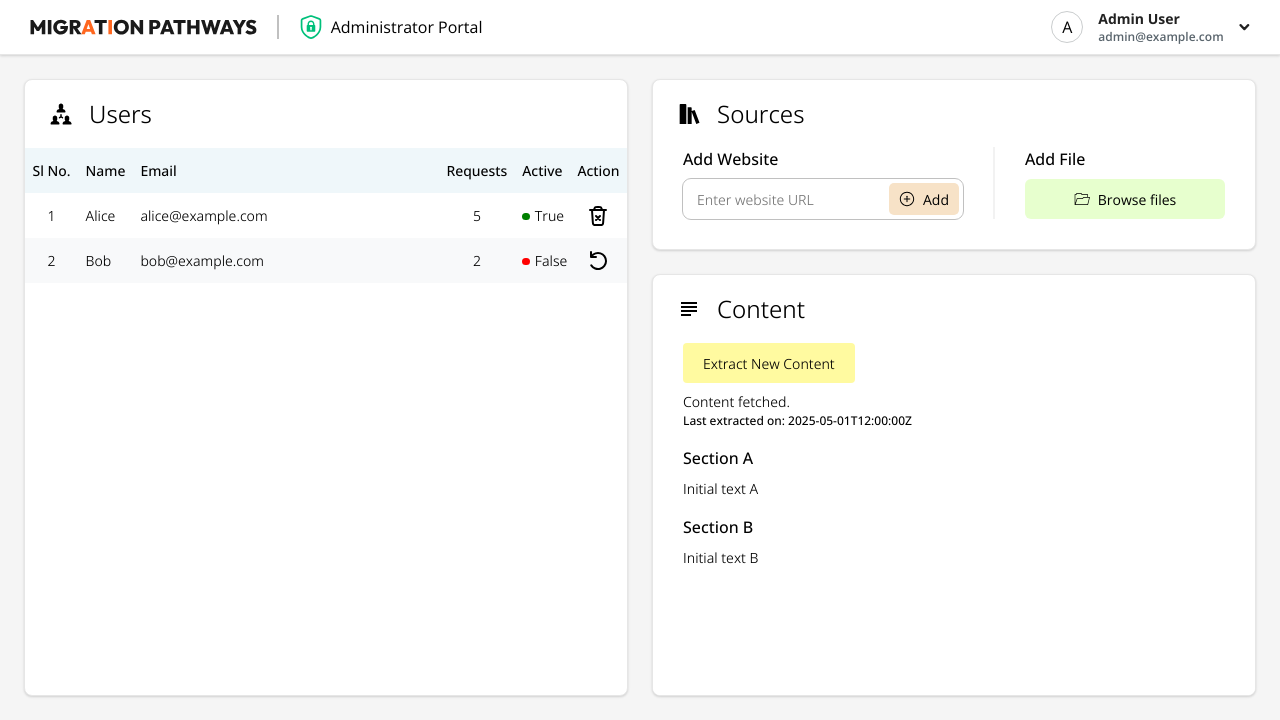
Test: AdminDashboard – Knowledge Addition › adds a website URL successfully
Expected: the heading "Add Website" is shown, [683,148,778,170]
Type "https://example.org/data" into the field with placeholder "Enter website URL" at (788, 199), box [687,183,889,215]
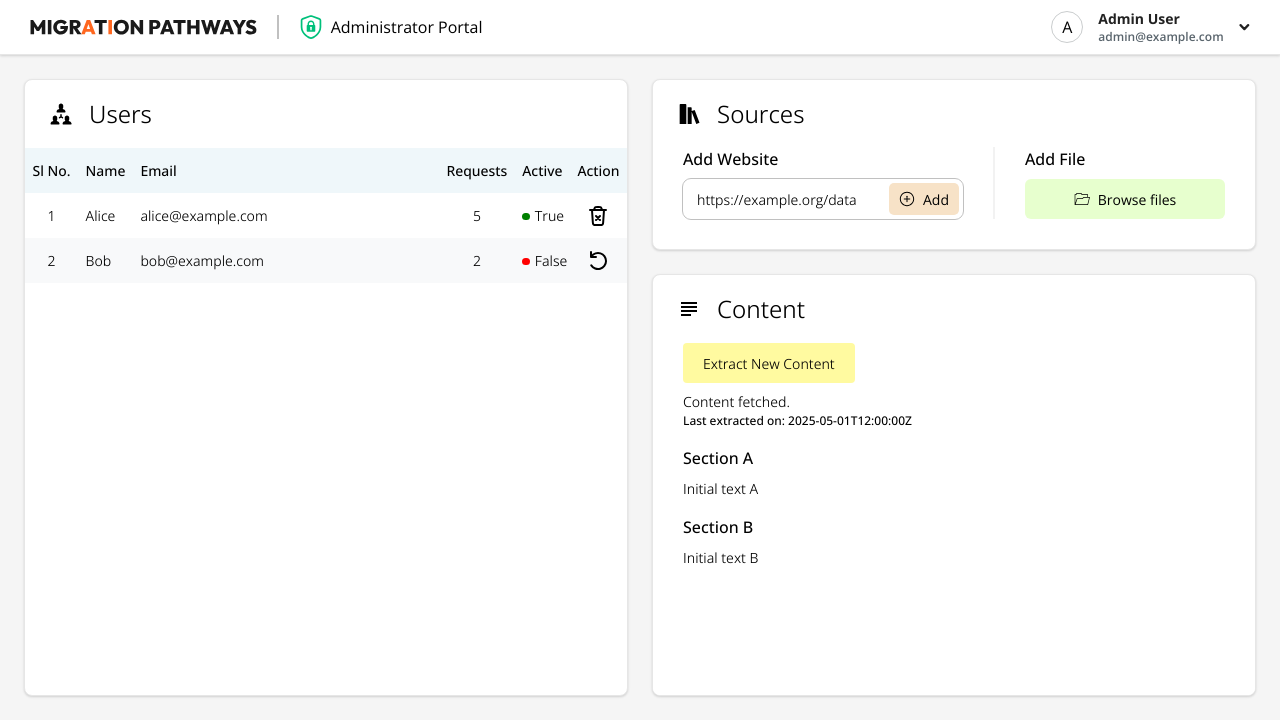
Click the button "Add" at (924, 199), box [889,183,959,215]
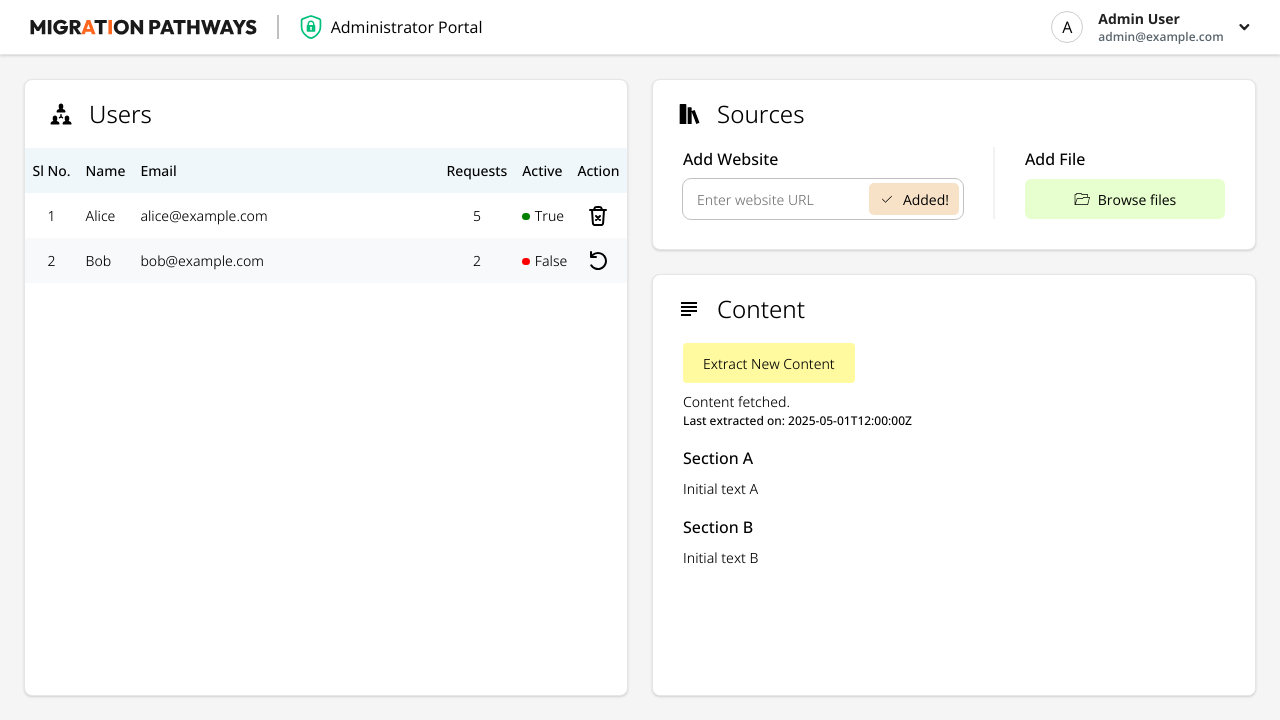
Expected: the button "Added!" is shown, [869,183,959,215]
Expected: the field with placeholder "Enter website URL" is empty, [687,183,869,215]
